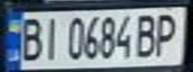0: (63, 14, 84, 61)
4: (115, 11, 136, 60)
6: (81, 12, 100, 61)
8: (97, 12, 118, 60)
B: (15, 14, 45, 62), (133, 10, 160, 58)
I: (39, 14, 63, 62)
P: (151, 10, 184, 58)
